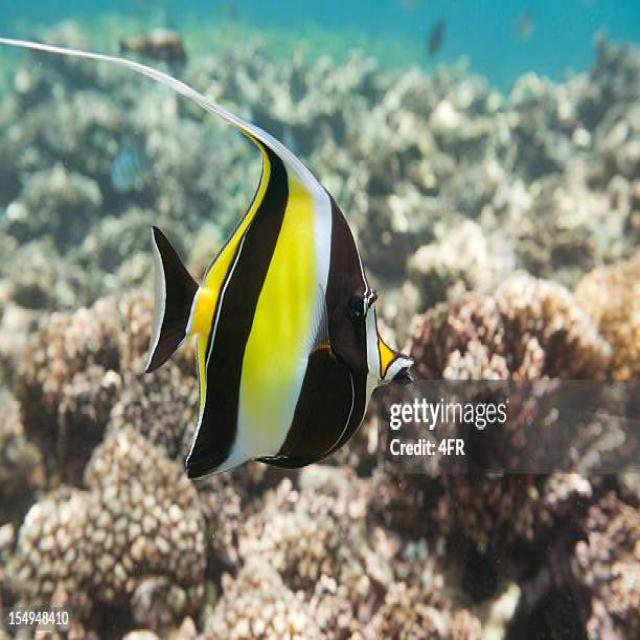MorishIdol: (1, 31, 416, 485)
